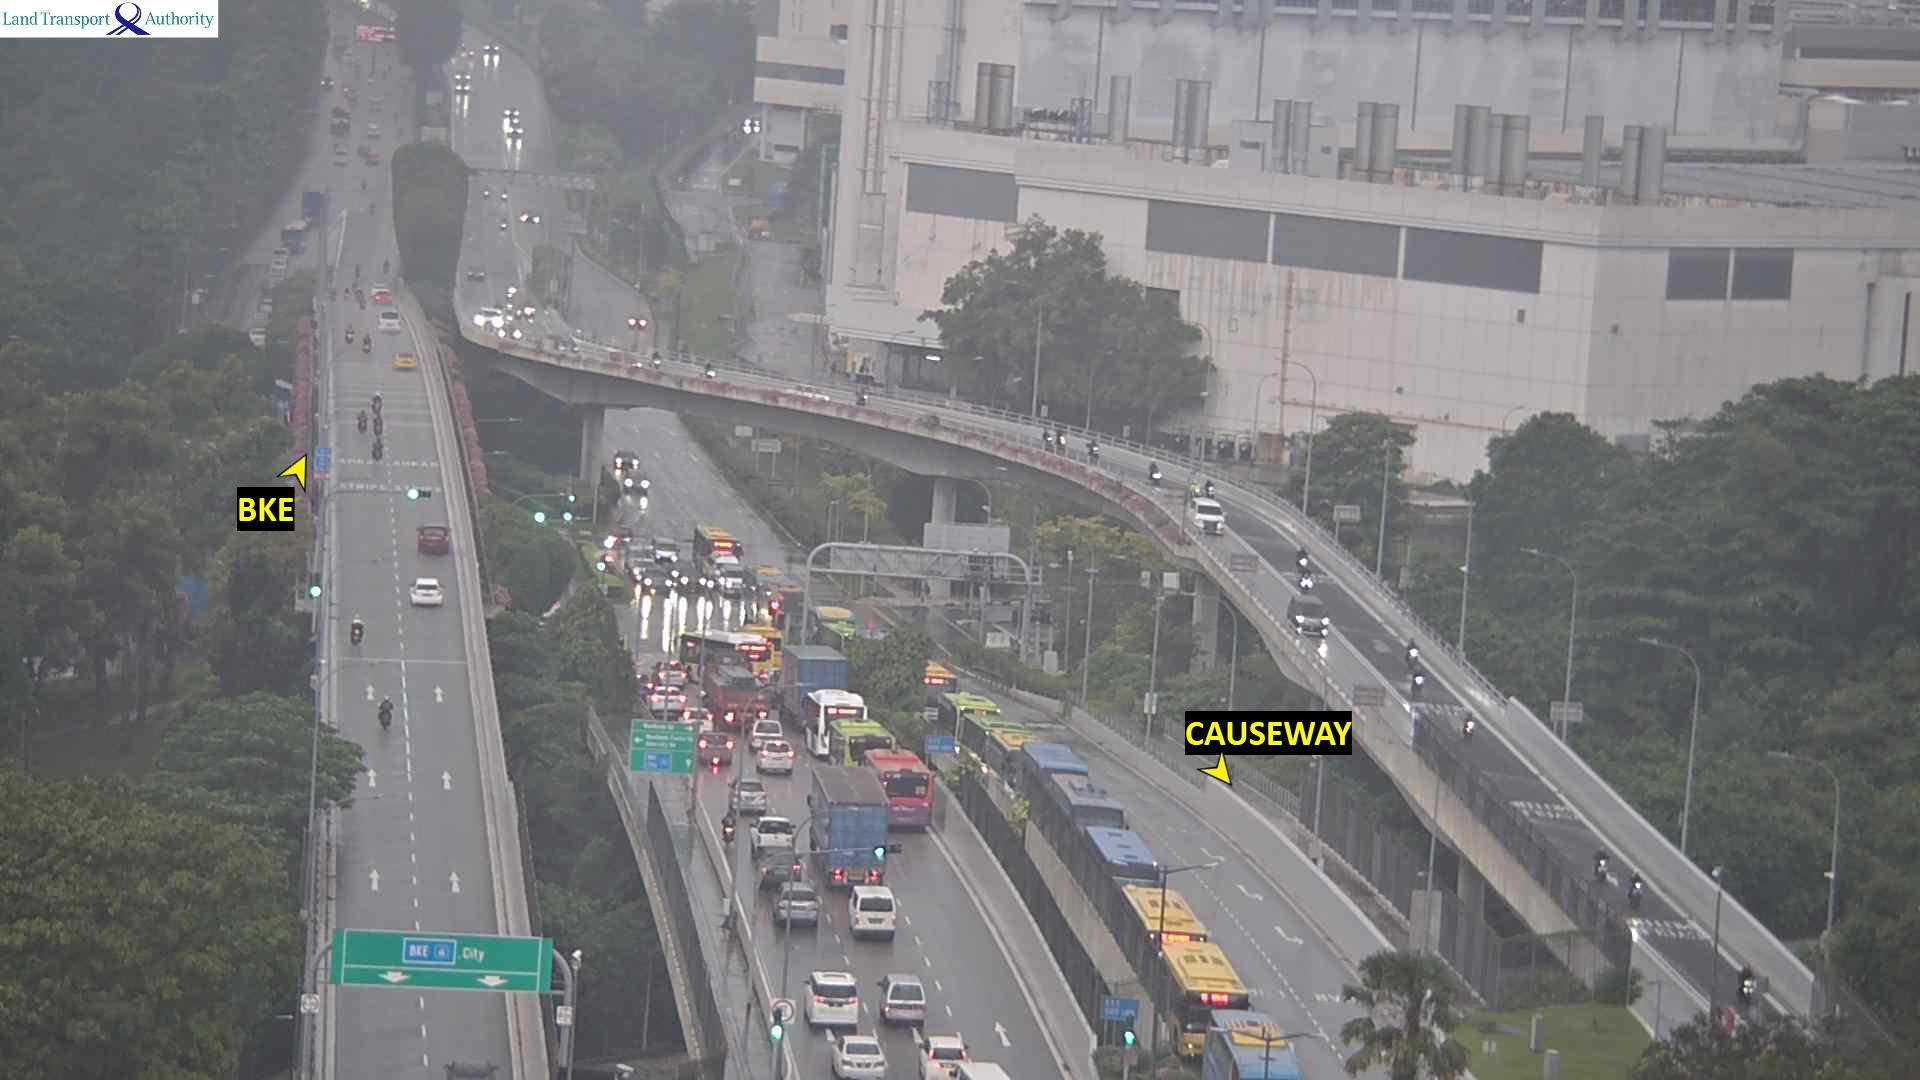vehicle-causeway-johor: (1155, 942, 1247, 1054), (1209, 1015, 1305, 1080), (1126, 890, 1208, 948), (1075, 829, 1160, 880), (1054, 783, 1121, 840), (1286, 595, 1328, 636), (1187, 497, 1216, 527), (1462, 711, 1477, 738), (477, 310, 502, 326), (1291, 574, 1311, 593), (1631, 870, 1643, 902), (1150, 464, 1166, 487), (1294, 546, 1308, 570), (1412, 644, 1429, 662), (1597, 845, 1606, 877), (1741, 964, 1751, 992), (1411, 671, 1423, 694), (463, 270, 477, 284), (524, 306, 535, 319), (1087, 443, 1095, 462), (707, 365, 717, 378), (654, 352, 661, 365)
vehicle-causeway-singapore: (865, 750, 938, 828), (869, 976, 932, 1026), (820, 727, 897, 765), (845, 887, 901, 936), (819, 848, 891, 885), (796, 694, 864, 728), (808, 971, 865, 1009), (836, 1039, 881, 1077), (750, 839, 799, 872), (750, 818, 790, 855), (781, 886, 819, 919), (647, 688, 696, 713), (729, 781, 764, 814), (748, 728, 785, 756), (413, 584, 447, 612), (782, 903, 822, 927), (758, 868, 796, 891), (729, 794, 765, 819), (418, 526, 448, 555), (753, 754, 789, 777), (378, 699, 392, 728), (398, 357, 421, 373), (356, 620, 372, 638), (382, 311, 401, 326), (373, 439, 382, 459), (418, 487, 430, 500), (368, 397, 375, 415), (345, 326, 351, 342)
